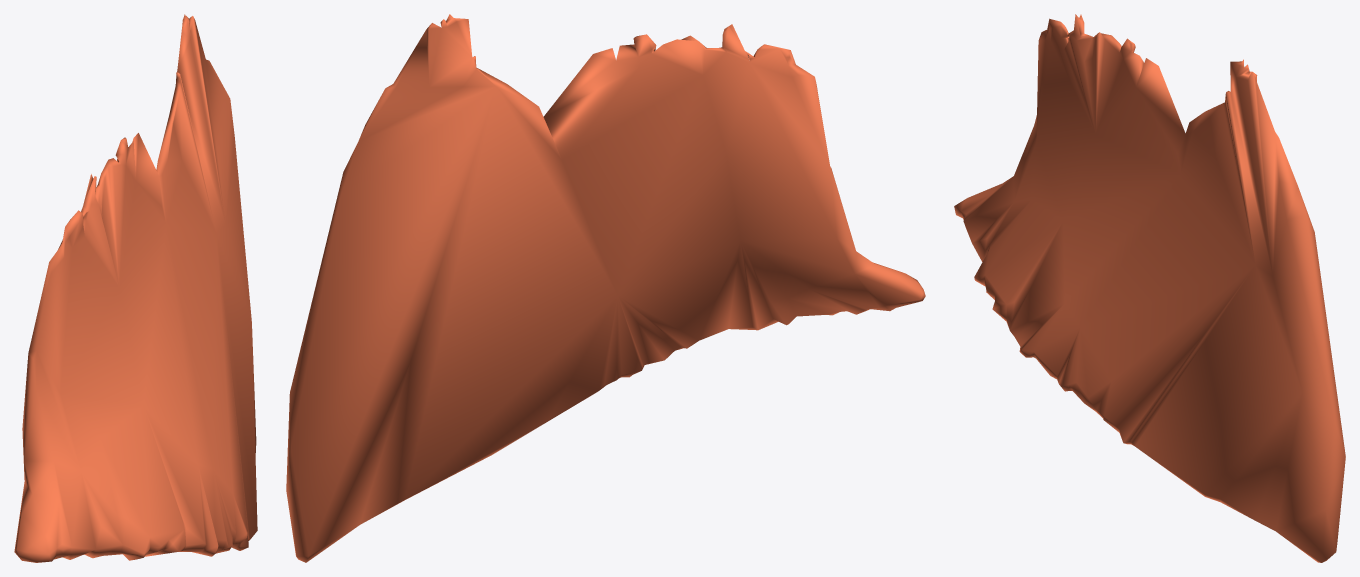
File: Levator_anguli_oris.l_Generated_Mesh_From_X3D.394.glb
The picture shows the model from 3 angles, left to right: view 1: azimuth 30°, elevation 25°; view 2: azimuth 150°, elevation 25°; view 3: azimuth 270°, elevation 25°; orthographic projection. The views are drawn at different scales.
Parts seen in each view (by area): view 1: Levator_anguli_oris.l_Generated_Mesh_From_X3D.394; view 2: Levator_anguli_oris.l_Generated_Mesh_From_X3D.394; view 3: Levator_anguli_oris.l_Generated_Mesh_From_X3D.394.
Part boxes in pixels (x1,y1,x2,y2): Levator_anguli_oris.l_Generated_Mesh_From_X3D.394: (14,14,257,562); Levator_anguli_oris.l_Generated_Mesh_From_X3D.394: (286,14,925,562); Levator_anguli_oris.l_Generated_Mesh_From_X3D.394: (954,14,1345,562).
Size of the model in its own units: 0.017 by 0.0202 by 0.0156.
